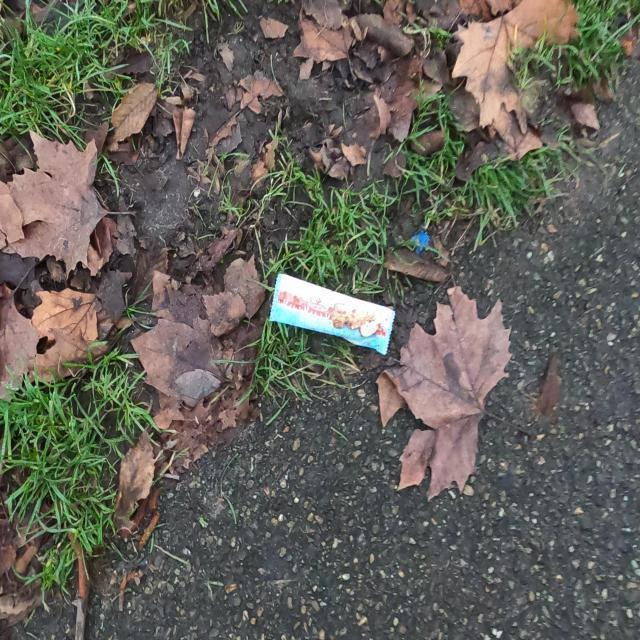Plastic: (266, 268, 398, 359)
